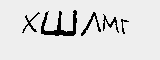Г: (120, 16, 132, 36)
Л: (79, 10, 101, 36)
М: (100, 13, 119, 33)
Х: (20, 10, 40, 33)
Ш: (39, 8, 78, 36)
